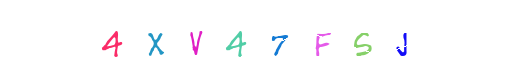4: (73, 0, 153, 80), (198, 0, 278, 80)
7: (220, 0, 300, 80)
F: (238, 0, 318, 80)
J: (363, 0, 443, 80)
S: (322, 0, 402, 80)
V: (187, 0, 267, 80)
X: (177, 0, 257, 80)
